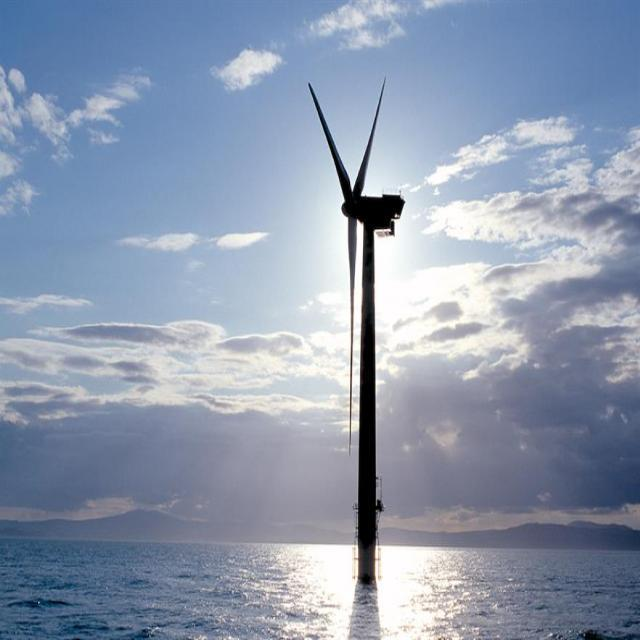solid-blade: (309, 84, 351, 202), (352, 79, 386, 198), (348, 218, 358, 452)
wind-turbine: (309, 82, 404, 584)
